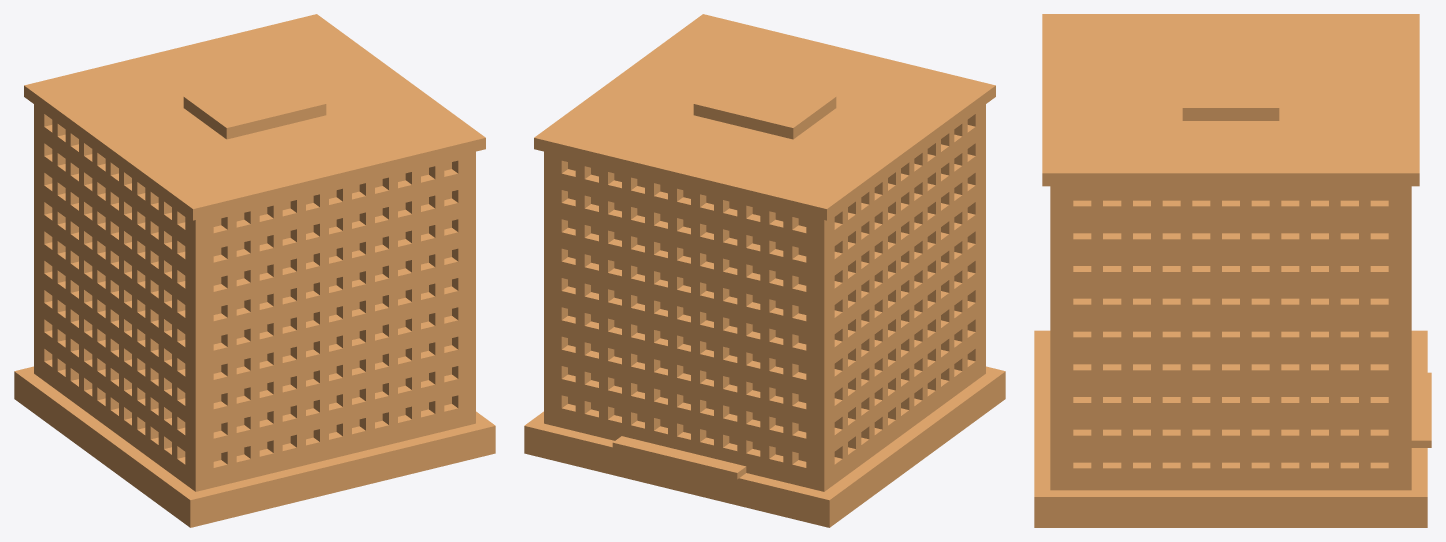
File: hotel.glb
3 views of the same model, side by side, from view 1: azimuth 30°, elevation 25°; view 2: azimuth 150°, elevation 25°; view 3: azimuth 270°, elevation 25° (orthographic). The views are drawn at different scales.
Parts seen in each view (by area): view 1: hotel; view 2: hotel; view 3: hotel.
Part boxes in pixels (box(x1,y1,x2,y2)): hotel: box(14, 14, 495, 527); hotel: box(524, 14, 1005, 527); hotel: box(1034, 14, 1431, 527).
Size of the model in its own units: 0.98 by 1 by 0.99.
